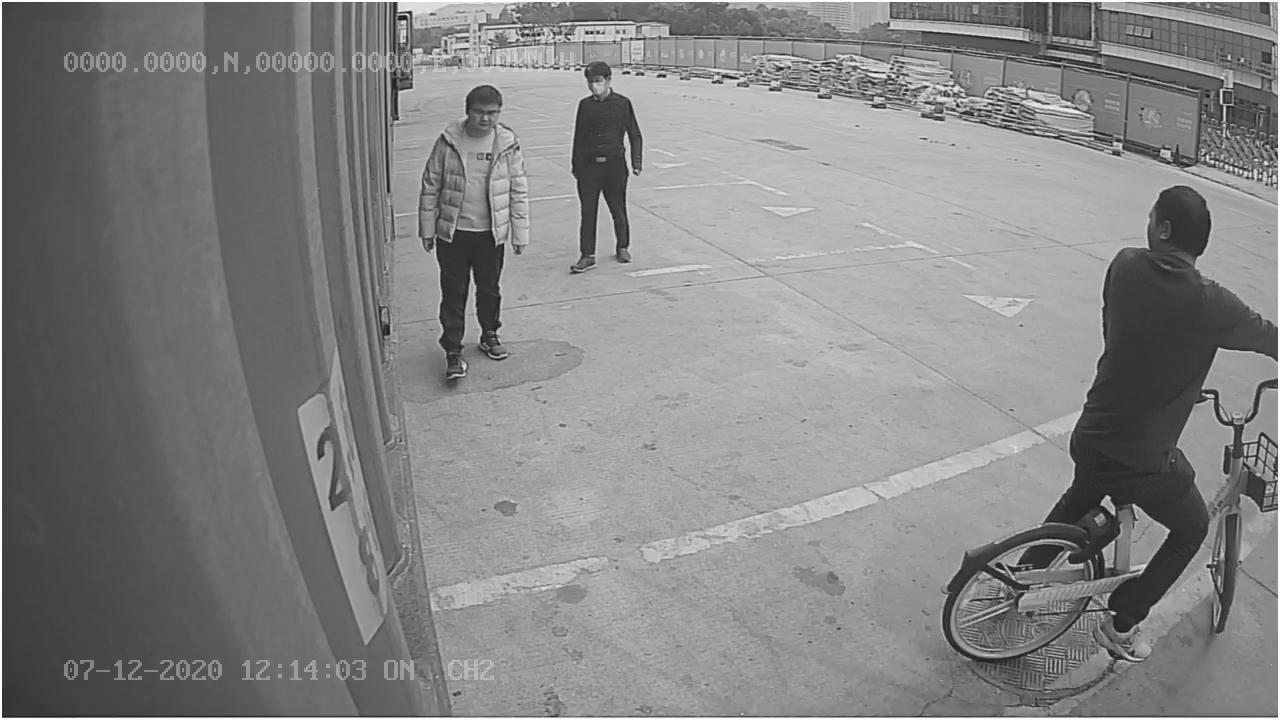person: (419, 78, 531, 385), (547, 53, 654, 282)
